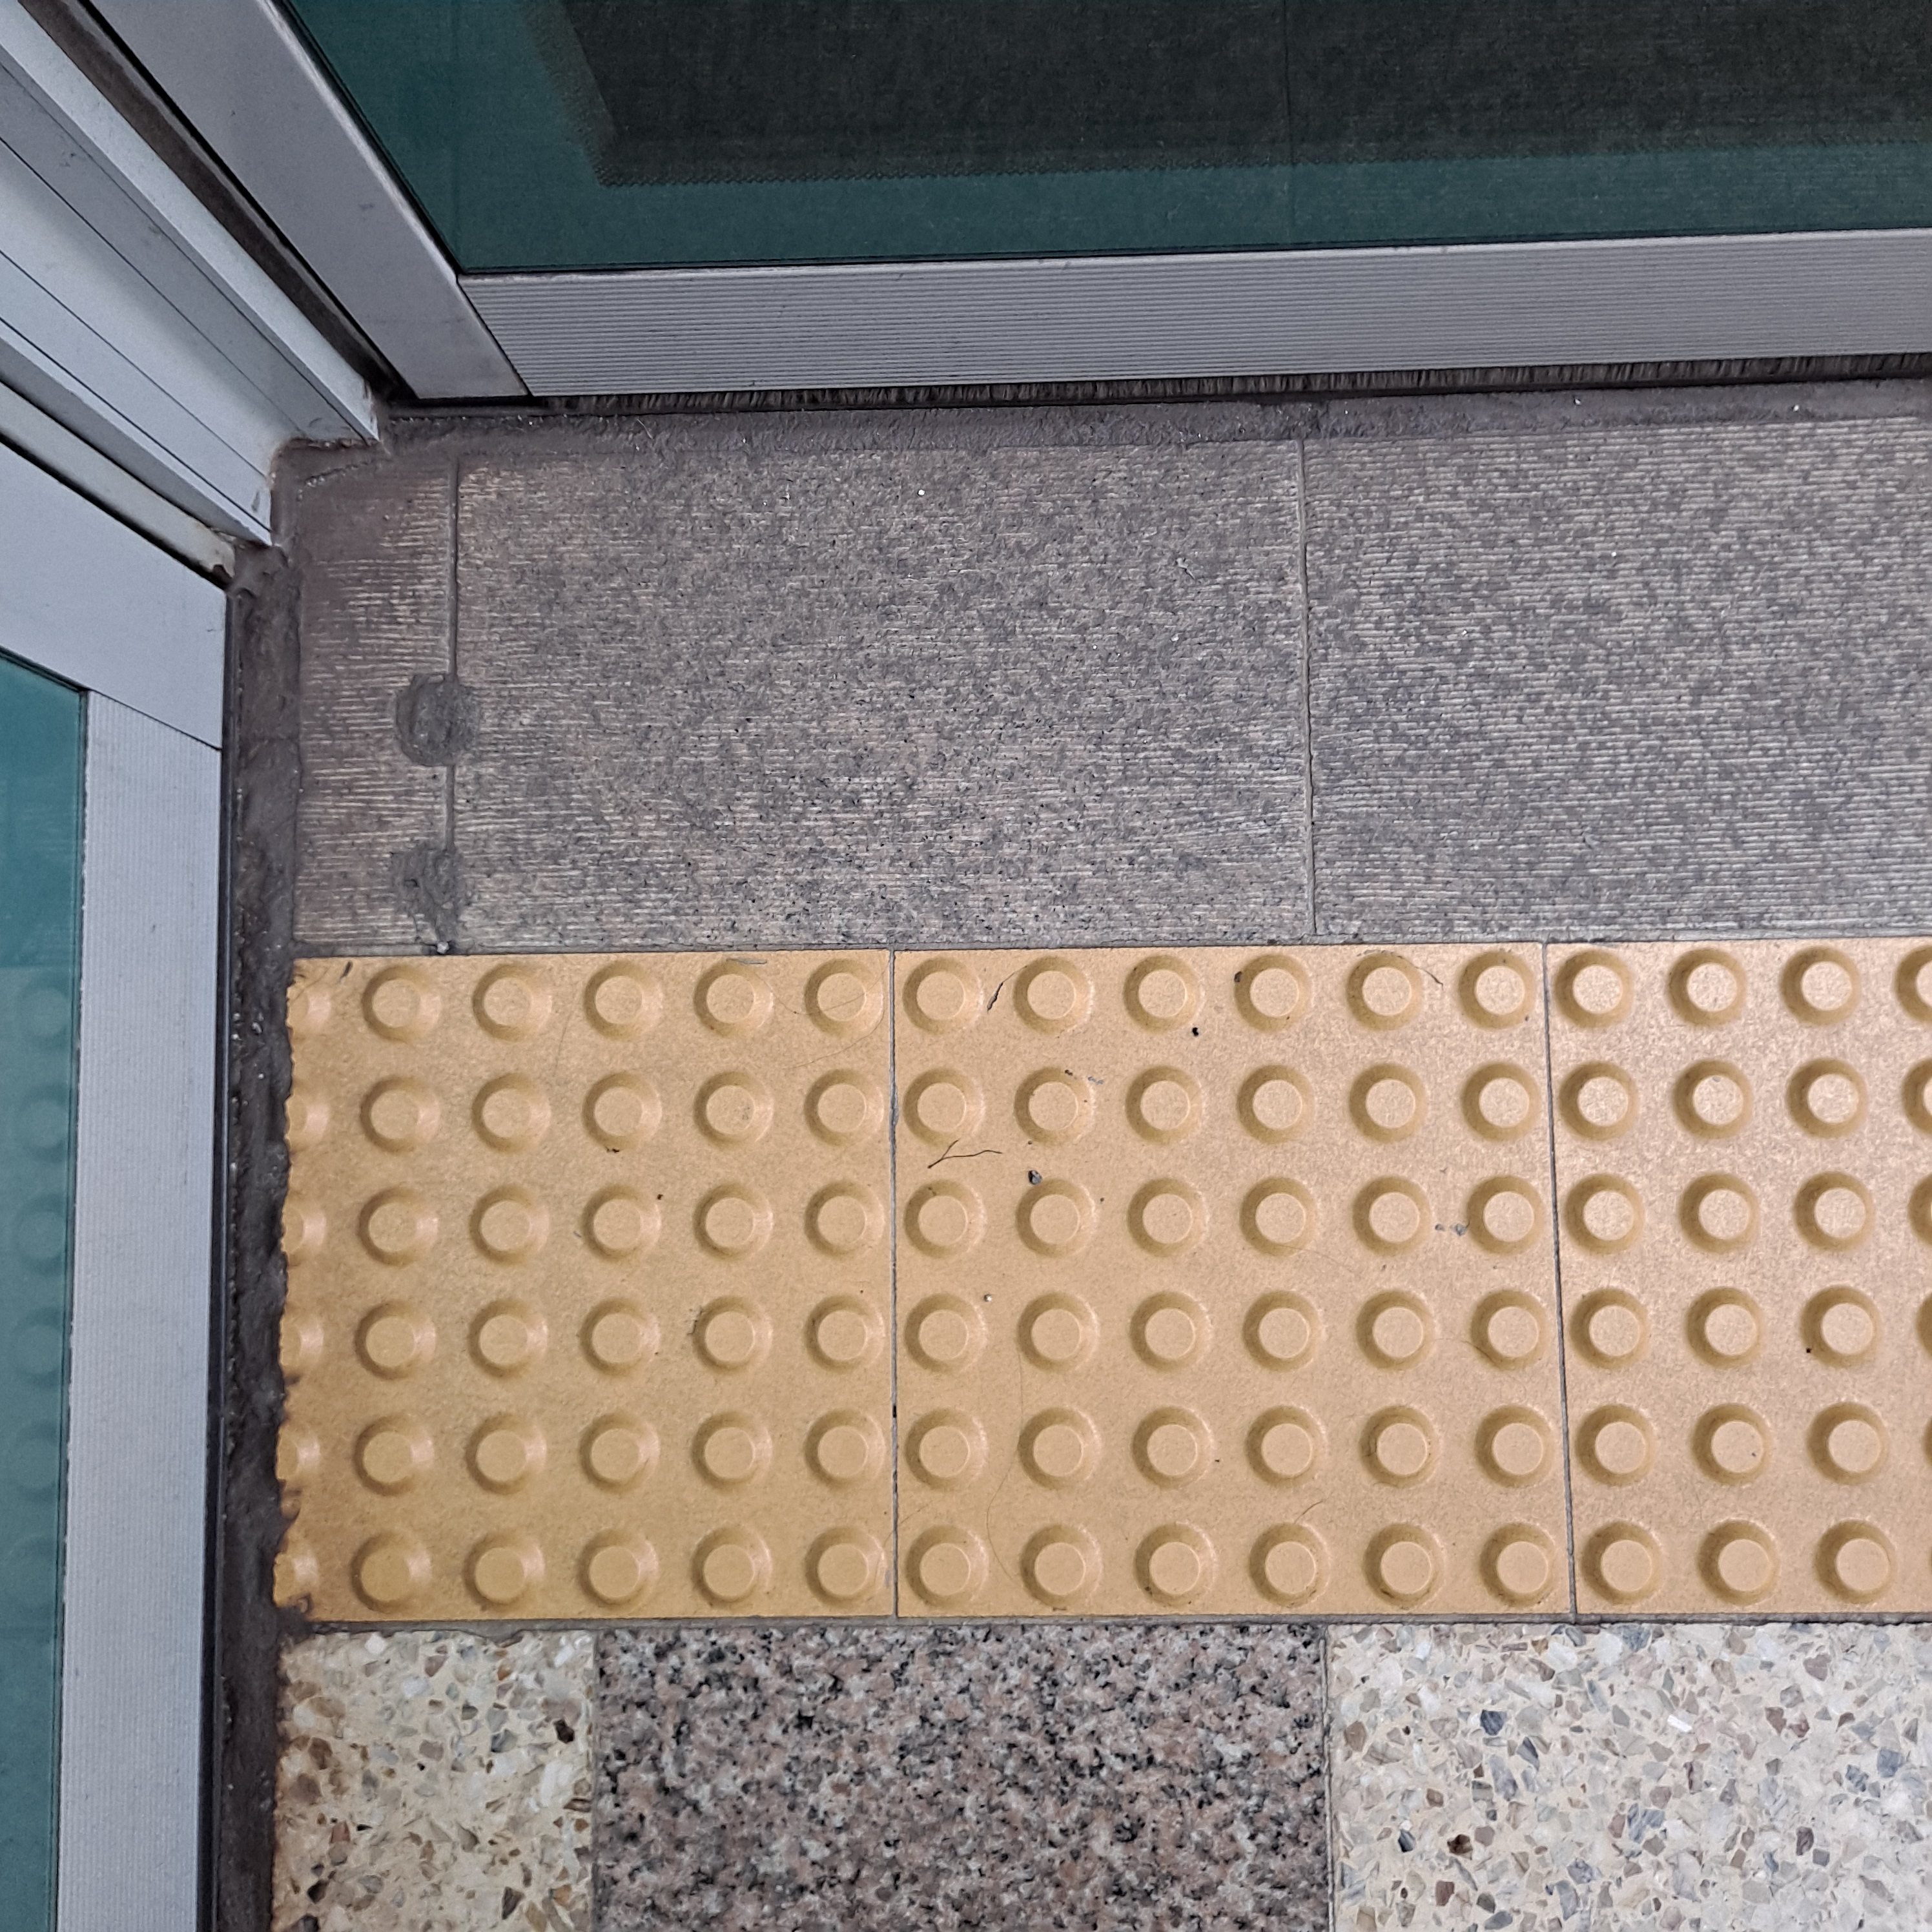warningBlock: (897, 950, 1566, 1621), (290, 936, 916, 1603), (1559, 938, 1932, 1605)
